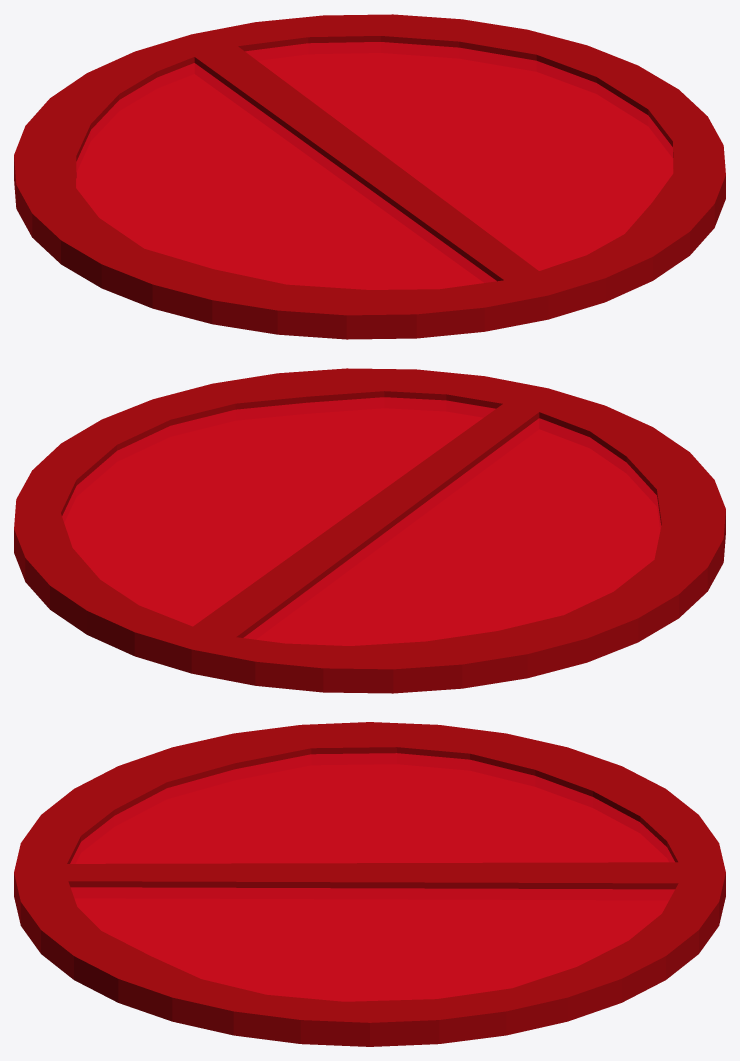
The model's file is Tomato.fbx.
The picture shows the model from 3 angles, top to bottom: view 1: azimuth 30°, elevation 25°; view 2: azimuth 150°, elevation 25°; view 3: azimuth 270°, elevation 25°; orthographic projection.
Visible parts, largest first — view 1: Circle; view 2: Circle; view 3: Circle.
Part boxes in pixels (box(x1,y1,x2,y2)): Circle: box(14, 14, 725, 339); Circle: box(14, 368, 725, 693); Circle: box(14, 722, 725, 1046).
Size of the model in its own units: 200 by 7.47 by 200.
